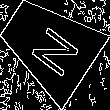N_NW: (19, 14, 79, 76)
